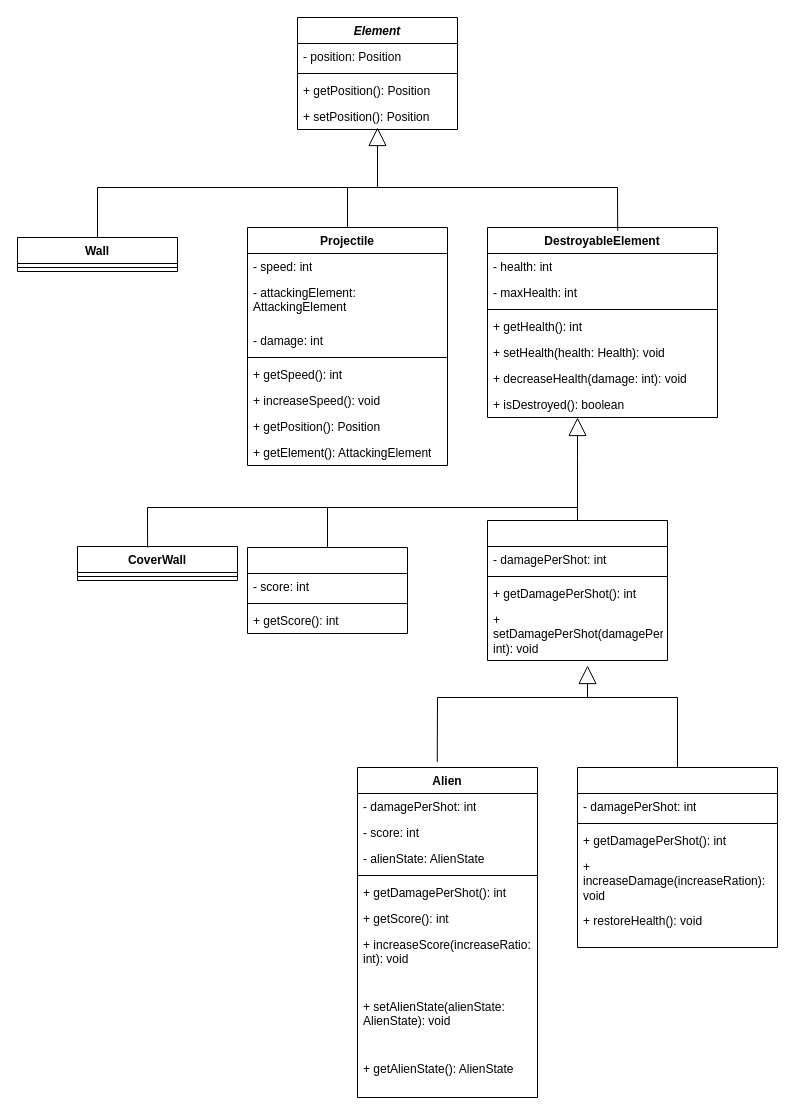
Image size: 795x1118. Some labels were removed from this diagram. Here are the shapes that lost their labels. From the top down, the box of each, then its label:
(246, 546, 408, 634): AlienShip
(486, 520, 668, 660): AttackingElement
(576, 766, 778, 948): Ship
